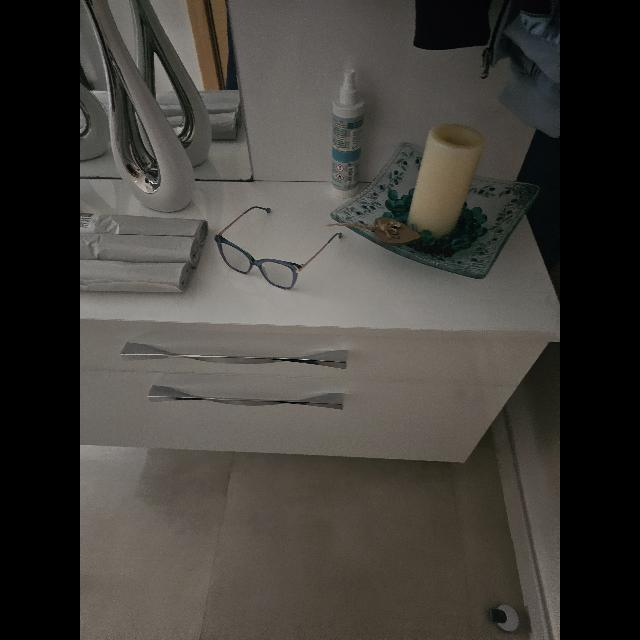glasses: (214, 206, 342, 290)
